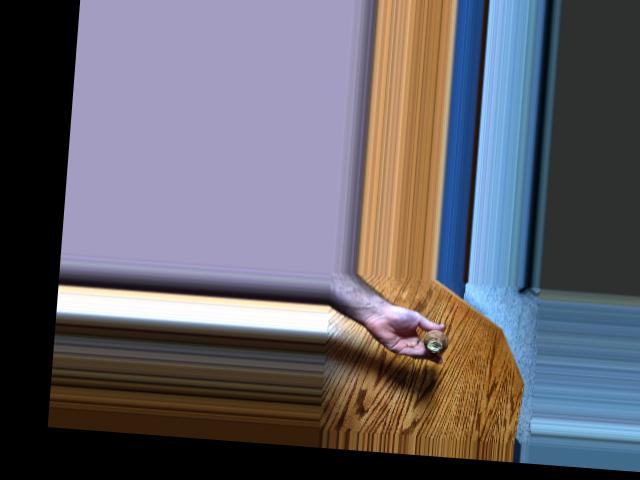sweet_potato: (425, 326, 450, 354)
